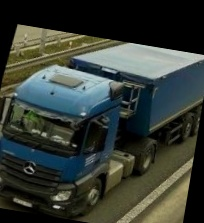truck: (0, 23, 204, 223)
